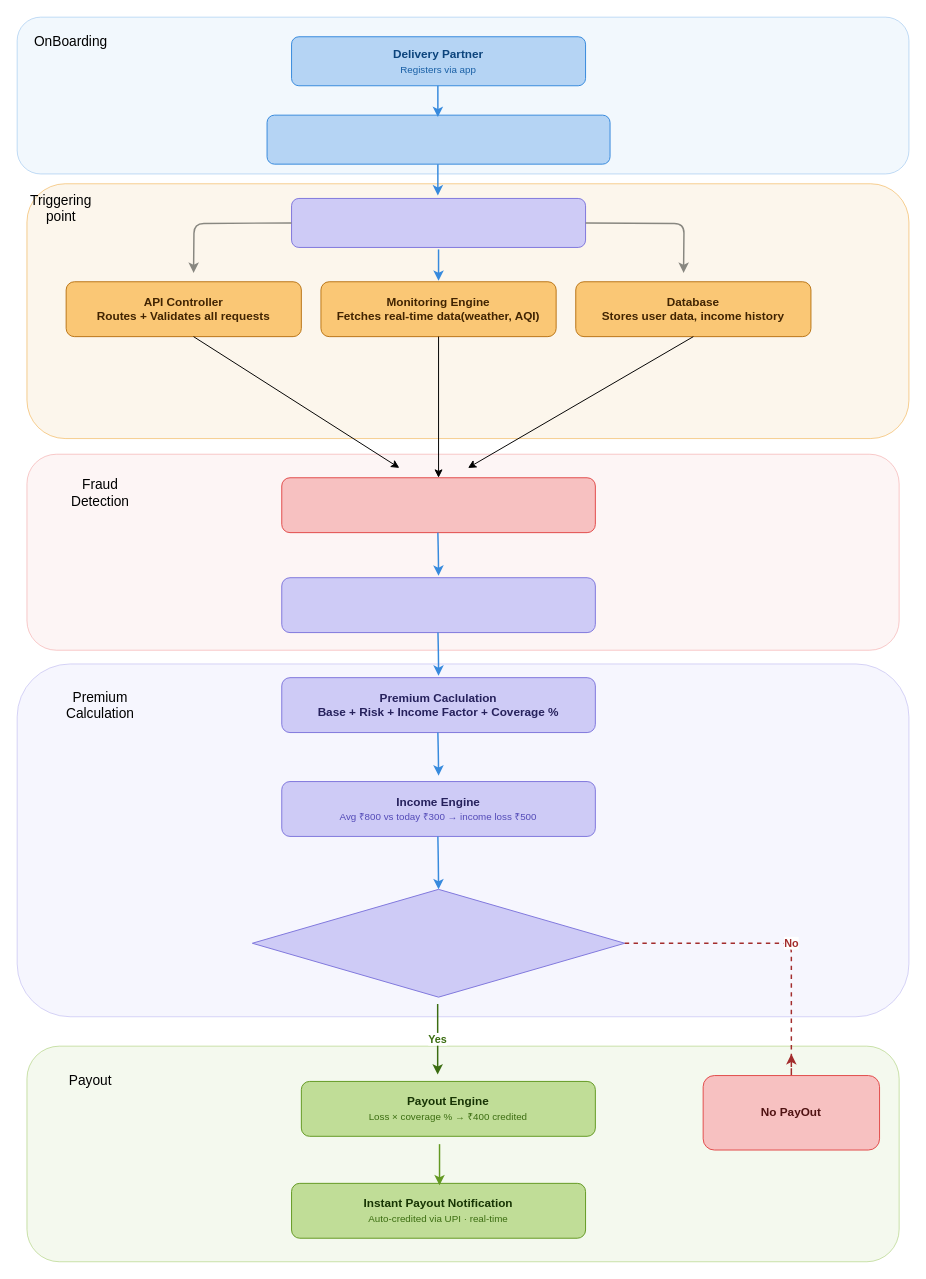
This 926x1279 diagram has some shape labels left out. Each missing label, with the box of its shape:
Condition Check Event confirmed AND income loss > threshold?: (251, 888, 625, 997)
Dynamic Risk Engine City+ weather patterns + historical disruptions: (281, 477, 595, 533)
Fraud Detection Layer Location + activity validation: (281, 577, 595, 633)
Mobile App / Frontend Name · city · plan + coverage % (60 / 80 / 100): (266, 114, 610, 164)
Trigger Engine Parametric Rule Engine(Rainfall>60mm): (291, 197, 586, 247)
